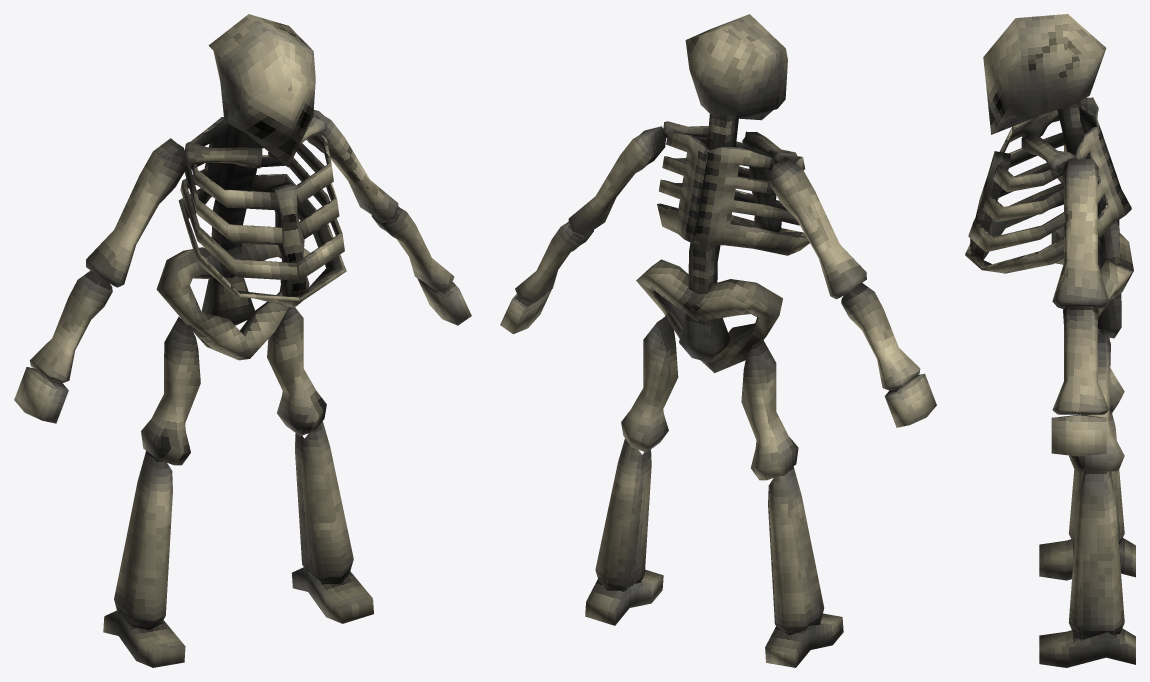
The model's file is corpse_skeleton.glb.
The picture shows the model from 3 angles, left to right: view 1: azimuth 30°, elevation 25°; view 2: azimuth 150°, elevation 25°; view 3: azimuth 270°, elevation 25°; orthographic projection. The views are drawn at different scales.
Visible parts, largest first — view 1: Cube; view 2: Cube; view 3: Cube.
Boxes of the visible parts, x1,y1,x2,y2 form: Cube: (14, 14, 471, 667); Cube: (500, 14, 936, 667); Cube: (965, 14, 1135, 667).
Size of the model in its own units: 3.34 by 4.54 by 1.17.
1 material, 1 textured.
